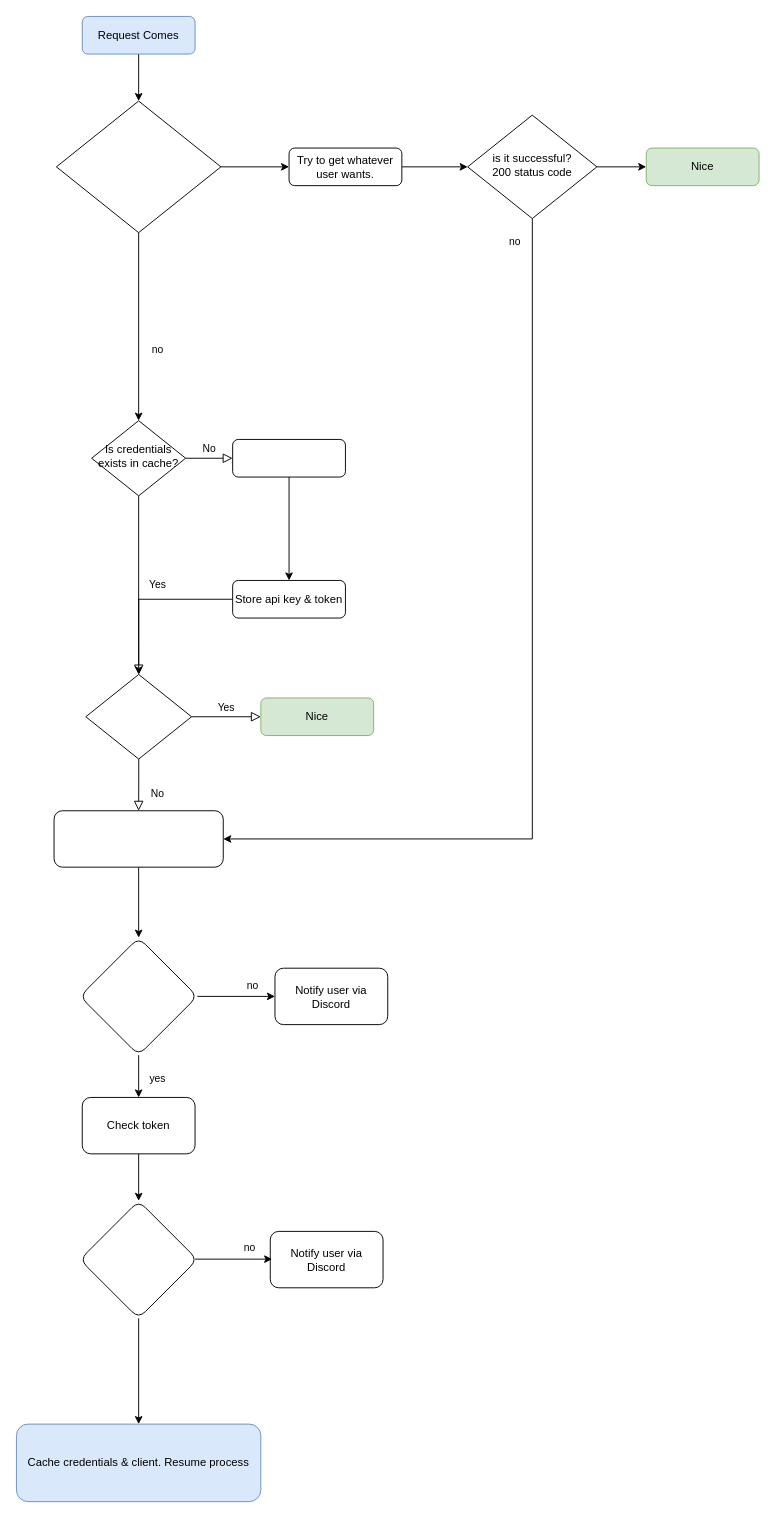
The diagram is 776 pixels wide and 1518 high, and some of its shapes have lost their labels. Each missing label, with the centre of its shape:
"Are they valid?" goes at (x=138, y=996).
"Check api key & password & username" goes at (x=138, y=838).
"Does requests are getting right responses?" goes at (x=138, y=716).
"is a client with those credentials exists in cache?" goes at (x=138, y=166).
"is token valid?" goes at (x=138, y=1259).
"Login" goes at (x=288, y=458).
